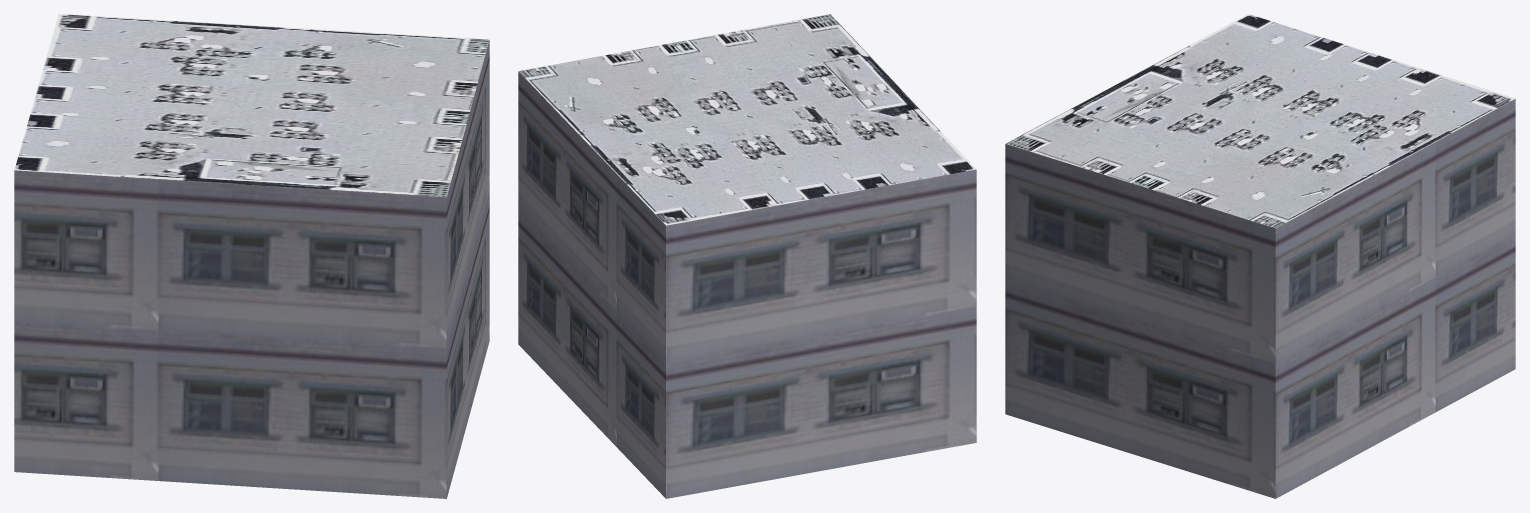
The model's file is ResTex__4819.fbx.
3 renders of one model, left to right at view 1: azimuth 30°, elevation 25°; view 2: azimuth 150°, elevation 25°; view 3: azimuth 270°, elevation 25°, orthographic. The views are drawn at different scales.
Visible parts, largest first — view 1: CityEngineMaterial_1_m, CityEngineMaterial_4_m; view 2: CityEngineMaterial_1_m, CityEngineMaterial_4_m; view 3: CityEngineMaterial_1_m, CityEngineMaterial_4_m.
Boxes of the visible parts, x1=… form: CityEngineMaterial_1_m: x1=14, y1=40, x2=489, y2=498; CityEngineMaterial_4_m: x1=14, y1=14, x2=489, y2=197; CityEngineMaterial_1_m: x1=518, y1=71, x2=976, y2=498; CityEngineMaterial_4_m: x1=519, y1=14, x2=975, y2=225; CityEngineMaterial_1_m: x1=1005, y1=99, x2=1515, y2=498; CityEngineMaterial_4_m: x1=1005, y1=14, x2=1515, y2=228.
Size of the model in its own units: 10.21 by 6 by 10.27.
Materials: 2 (2 with a texture image).
